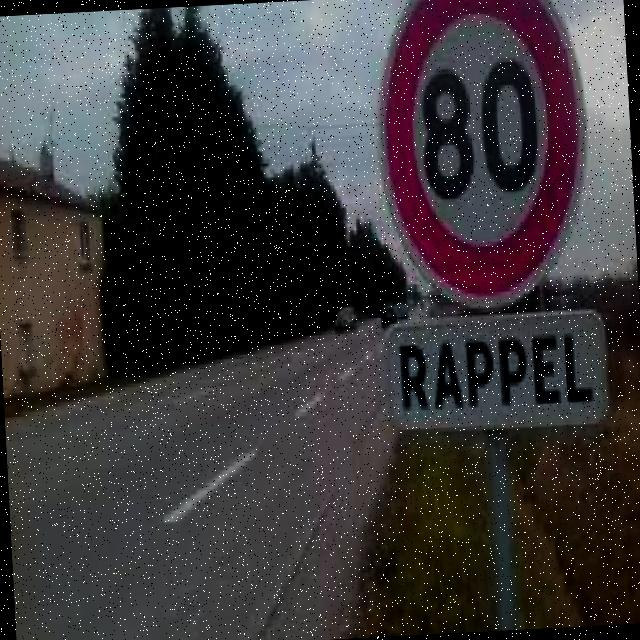Ograniczenie predkosci do 80: (390, 0, 578, 273)
